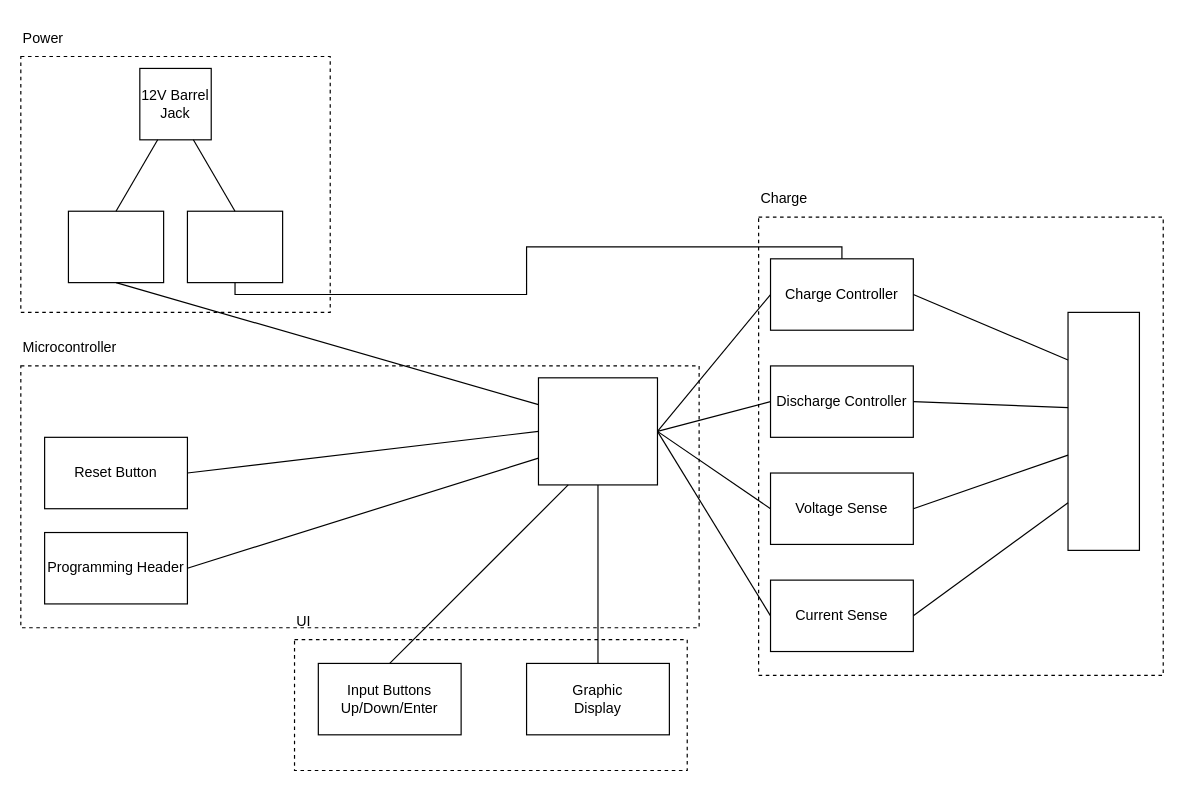
This 1184x791 diagram has some shape labels left out. The centre of each missing label's shape, as x and y in pixels:
"3.3V DC-DC Digital" goes at point 115,246.
"Battery Cell" goes at point 1103,430.
"DC-DC Charge" goes at point 234,246.
"MCU" goes at point 597,431.
